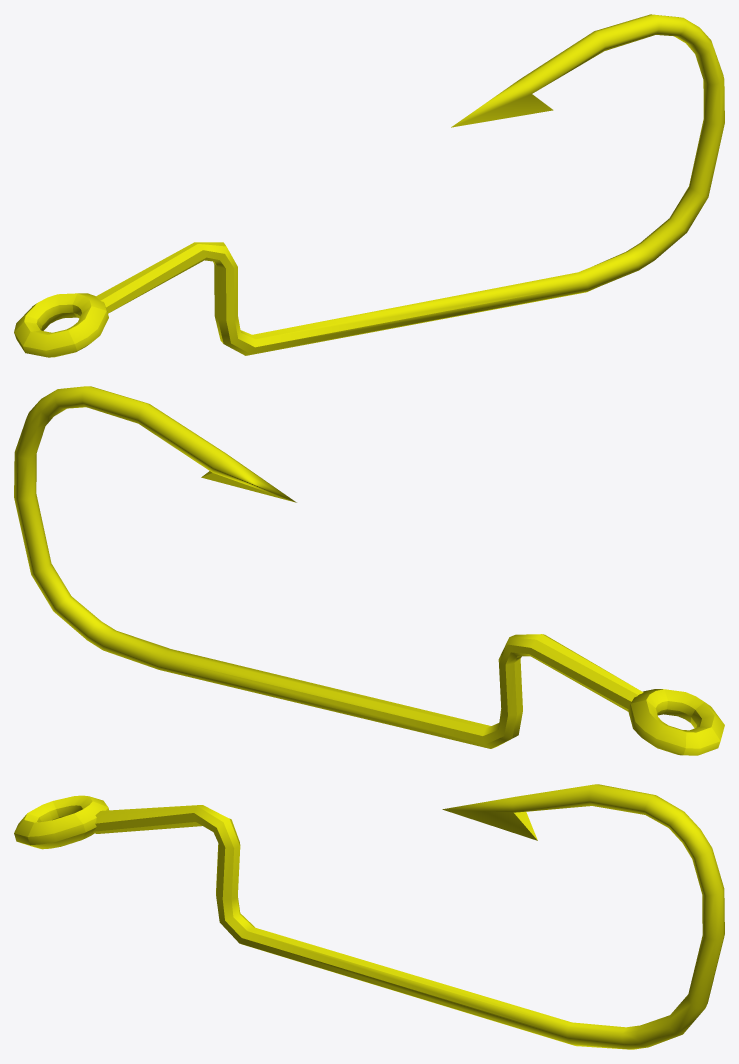
Rendered from FoockV.fbx.
3 renders of one model, top to bottom at view 1: azimuth 30°, elevation 25°; view 2: azimuth 150°, elevation 25°; view 3: azimuth 330°, elevation 25°, orthographic. The views are drawn at different scales.
Visible parts, largest first — view 1: pasted__polySurface326; view 2: pasted__polySurface326; view 3: pasted__polySurface326.
Boxes of the visible parts, <box> form: pasted__polySurface326: <box>14,14,724,357</box>; pasted__polySurface326: <box>14,386,724,755</box>; pasted__polySurface326: <box>14,784,724,1049</box>.
Bounding box in the file's own units: 0.2535 × 0.0902 × 0.0304.
